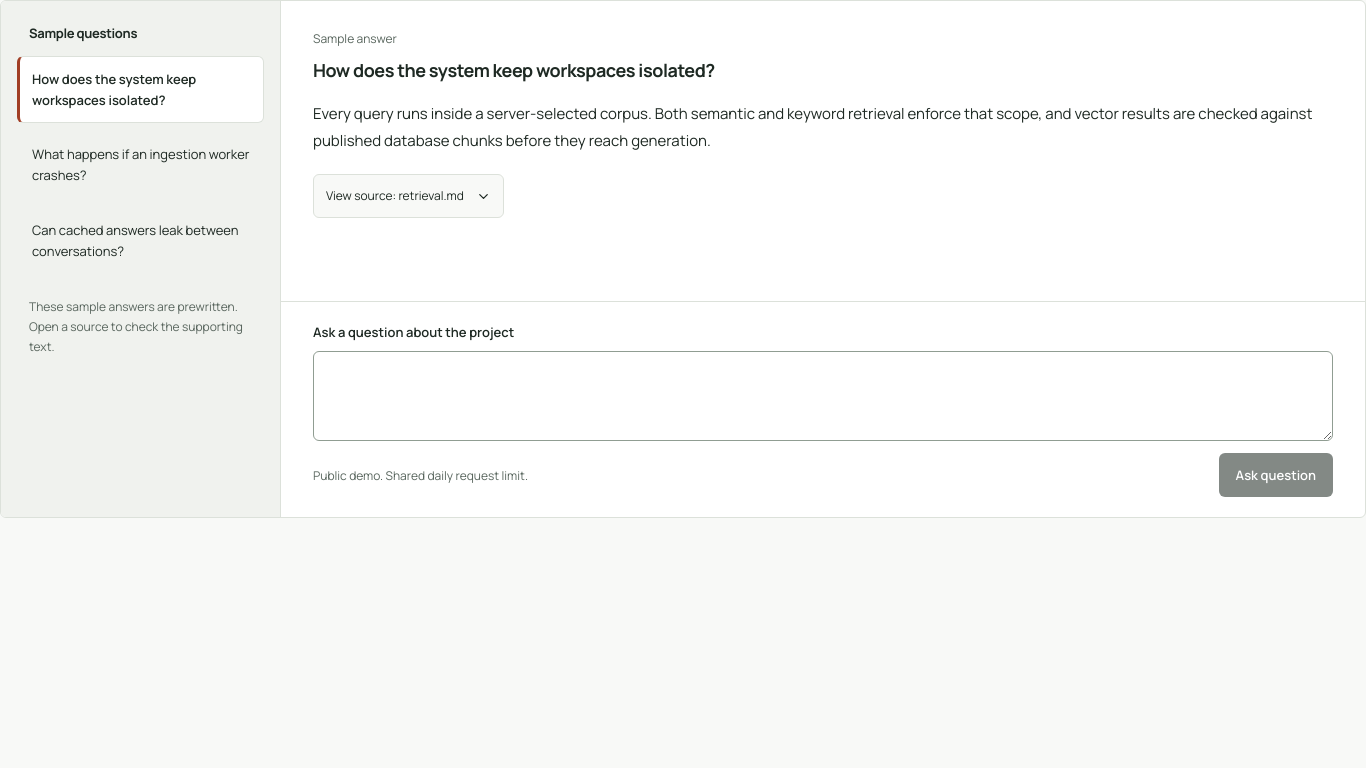
Scenario: public demo › keeps the sample available after an unavailable live request
Type "How are documents scoped?" into the text box labelled "Ask a question about the project" at [823, 396], box [313, 351, 1333, 441]
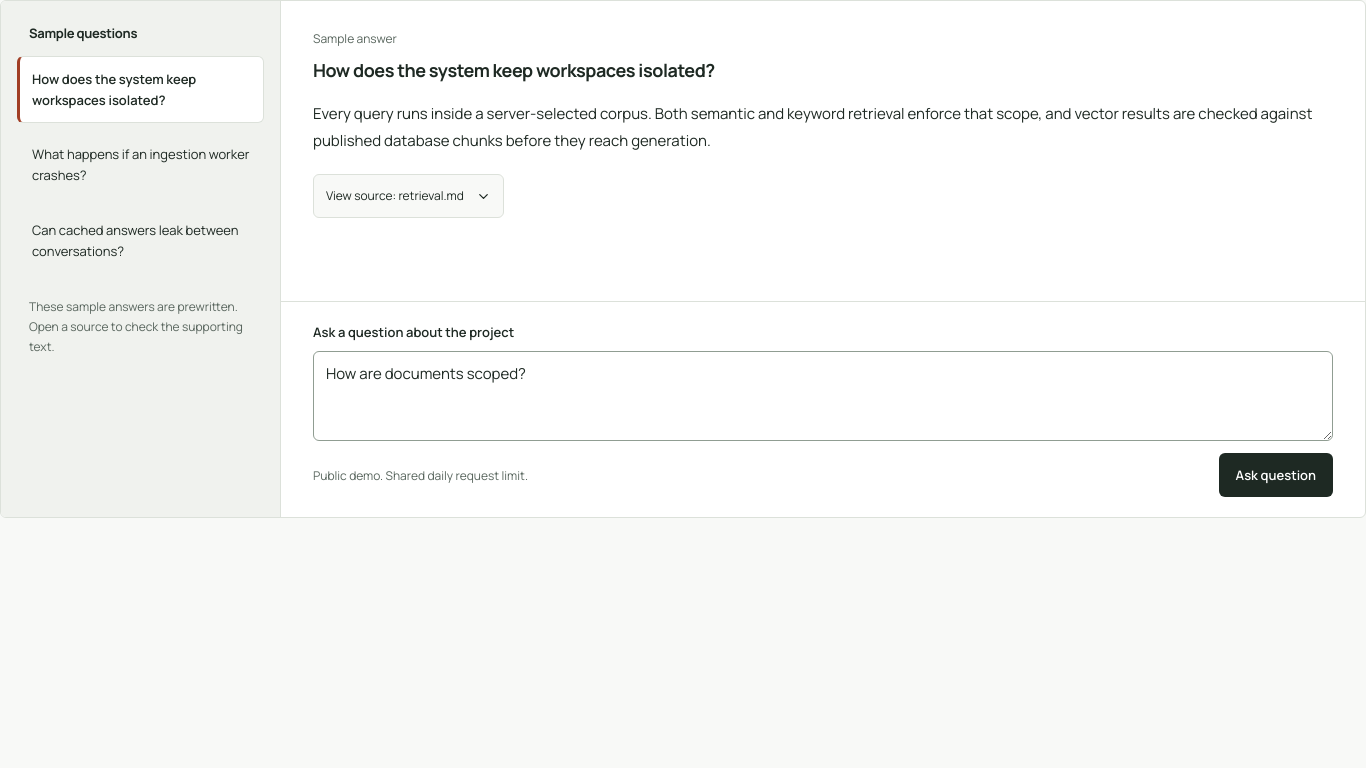
Click the button "Ask question" at [1276, 475], box [1219, 453, 1333, 497]
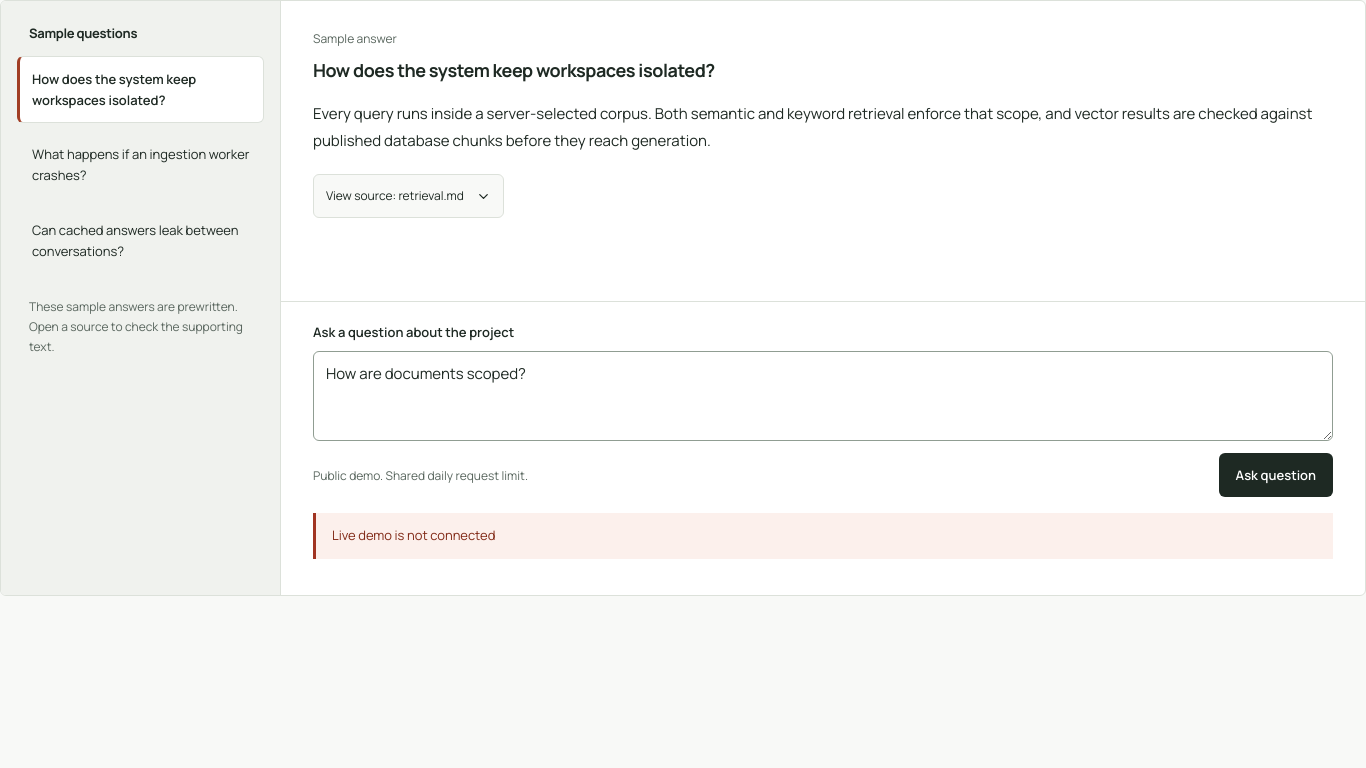
Expected: the text "Sample answer" is shown, [313, 30, 397, 47]
Expected: the message shows "not connected", [332, 526, 495, 544]
